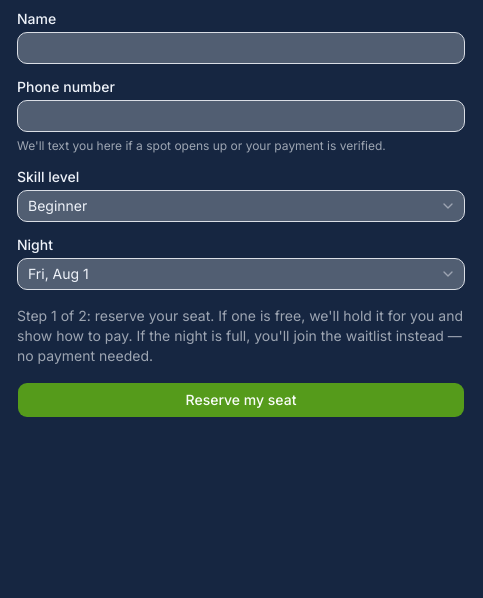
Test case: PublicOpenPlayRegistrationForm — reserve first, pay second › shows the payment step only once a seat is held
Type "Jane Guest" into the field labelled "Name" at (241, 48), box left=17, top=32, right=465, bottom=64
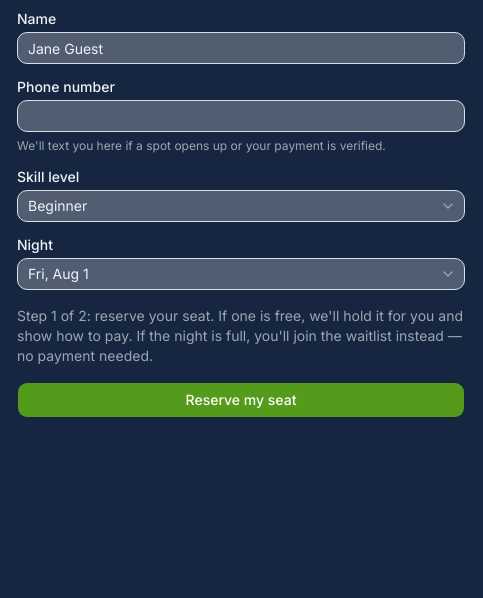
Type "09171234567" into the field labelled "Phone number" at (241, 116), box left=17, top=100, right=465, bottom=132
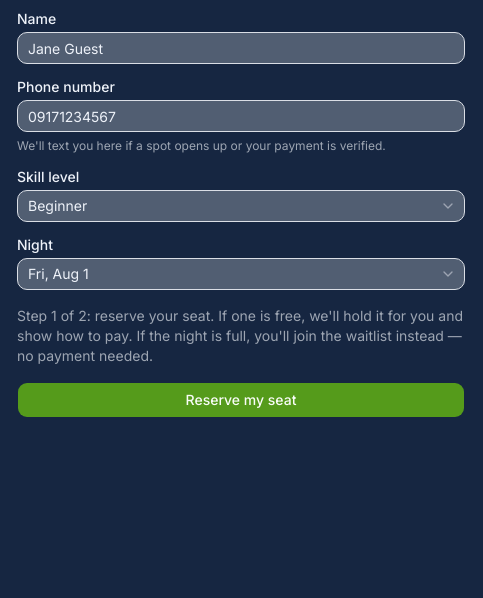
Click the button "Reserve my seat" at (241, 400), box left=17, top=382, right=465, bottom=418
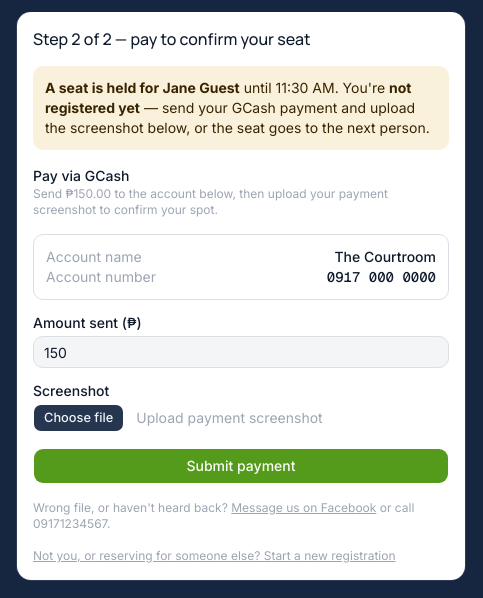
Now the text "Step 2 of 2 — pay to confirm your seat" is shown, box left=33, top=28, right=311, bottom=50
Now the text "not registered yet" is shown, box left=45, top=79, right=412, bottom=116
Now the text "0917 000 0000" is shown, box left=327, top=267, right=436, bottom=287
